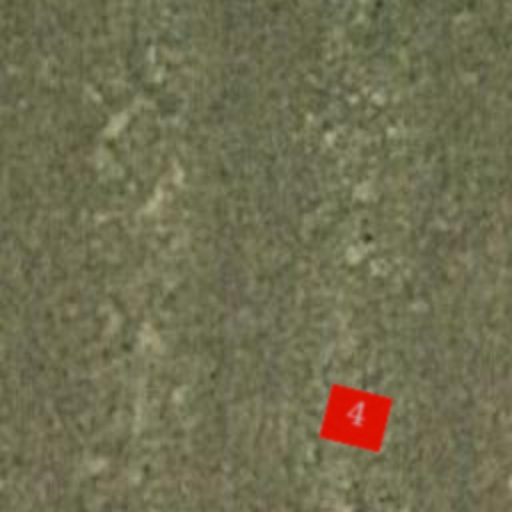rectangle: (316, 378, 396, 458)
